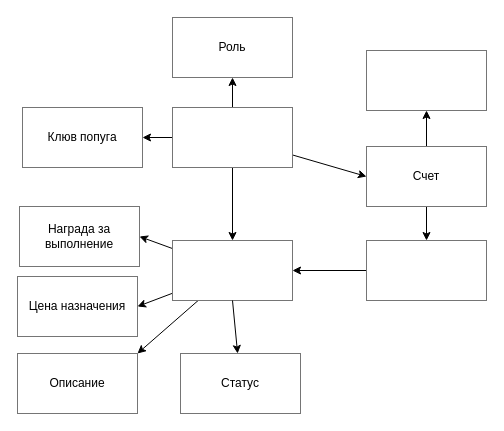
The diagram is 504 pixels wide and 431 high, and some of its shapes have lost their labels. The box of each missing label's shape, as (x1, y1, x2, y2) in pixels:
Аккаунт: (172, 106, 292, 168)
Аудит-лог: (366, 240, 486, 300)
Выплаты: (366, 50, 486, 110)
Задача: (172, 240, 292, 300)
